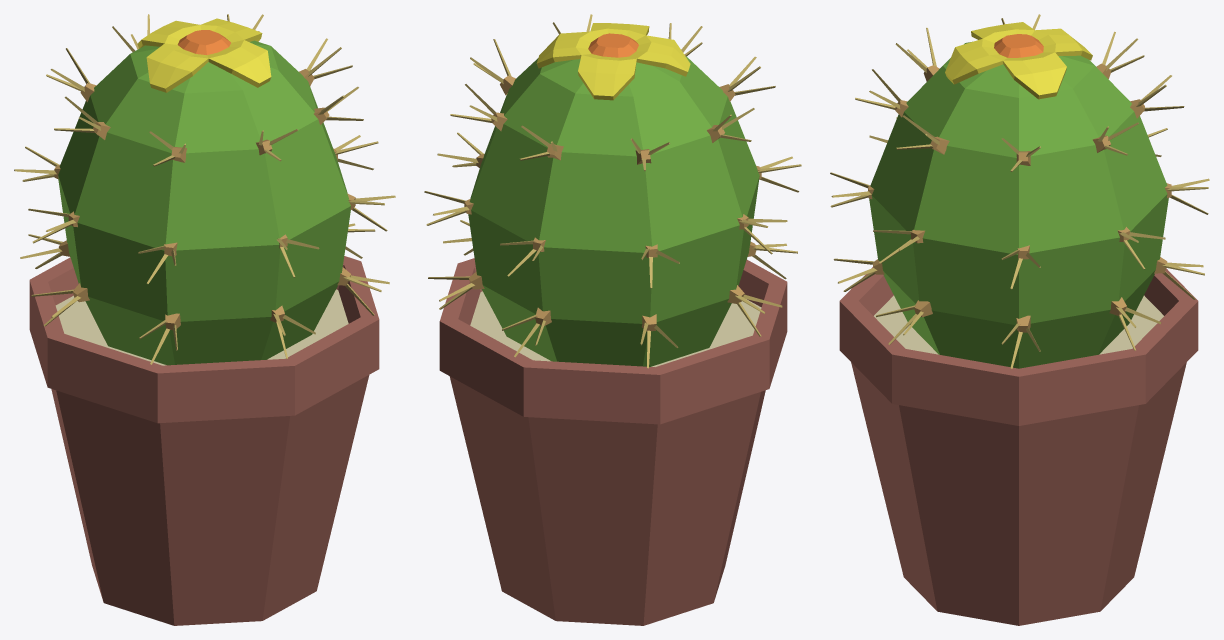
File: Little cactus 1.fbx
The picture shows the model from 3 angles, left to right: view 1: azimuth 30°, elevation 25°; view 2: azimuth 150°, elevation 25°; view 3: azimuth 270°, elevation 25°; orthographic projection.
Parts seen in each view (by area): view 1: Little cactus; view 2: Little cactus; view 3: Little cactus.
Boxes of the visible parts, <box> form: Little cactus: <box>14,14,395,625</box>; Little cactus: <box>424,14,801,625</box>; Little cactus: <box>830,14,1209,625</box>.
Bounding box in the file's own units: 21.96 × 34.02 × 21.85.
